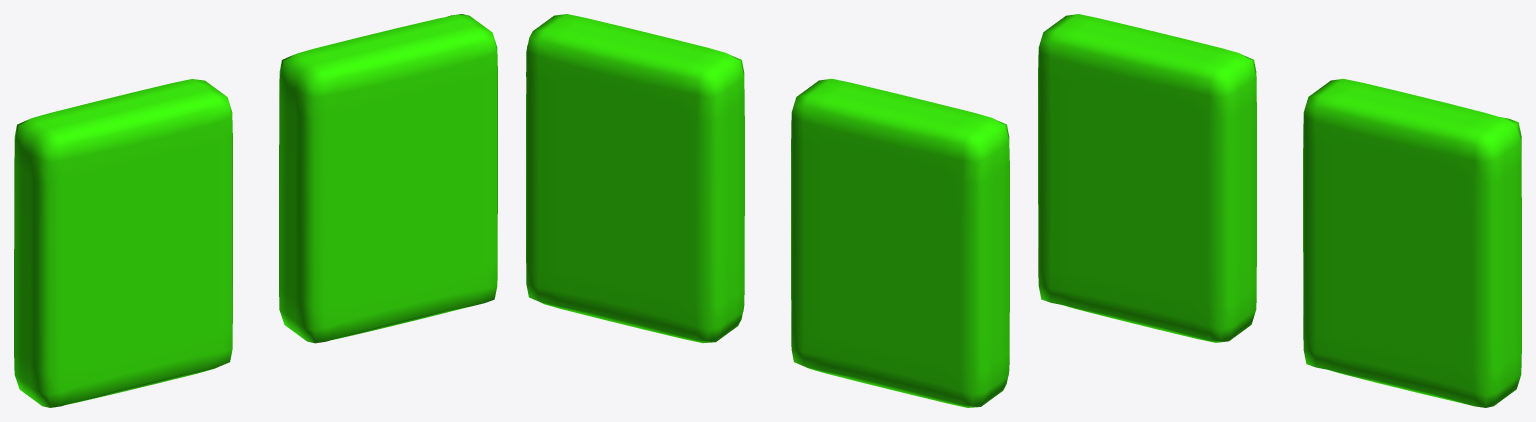
Rendered from teeth_AAA.FBX.
3 views of the same model, side by side, from view 1: azimuth 30°, elevation 25°; view 2: azimuth 150°, elevation 25°; view 3: azimuth 330°, elevation 25° (orthographic).
Parts seen in each view (by area): view 1: teeth; view 2: teeth; view 3: teeth.
Boxes of the visible parts, x1=… form: teeth: x1=14, y1=14, x2=497, y2=407; teeth: x1=526, y1=14, x2=1009, y2=407; teeth: x1=1038, y1=14, x2=1521, y2=407.
Size of what is drawn, in the model's own units: 42.54 by 5.7 by 24.18.
